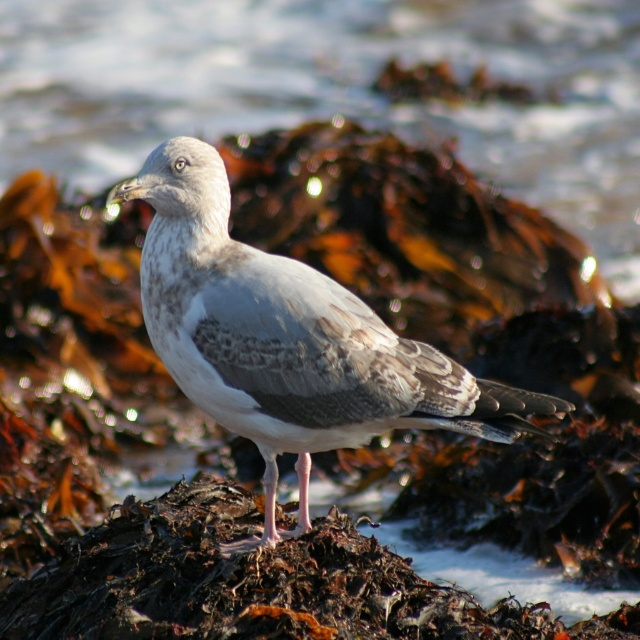Duck: (117, 138, 574, 551)
